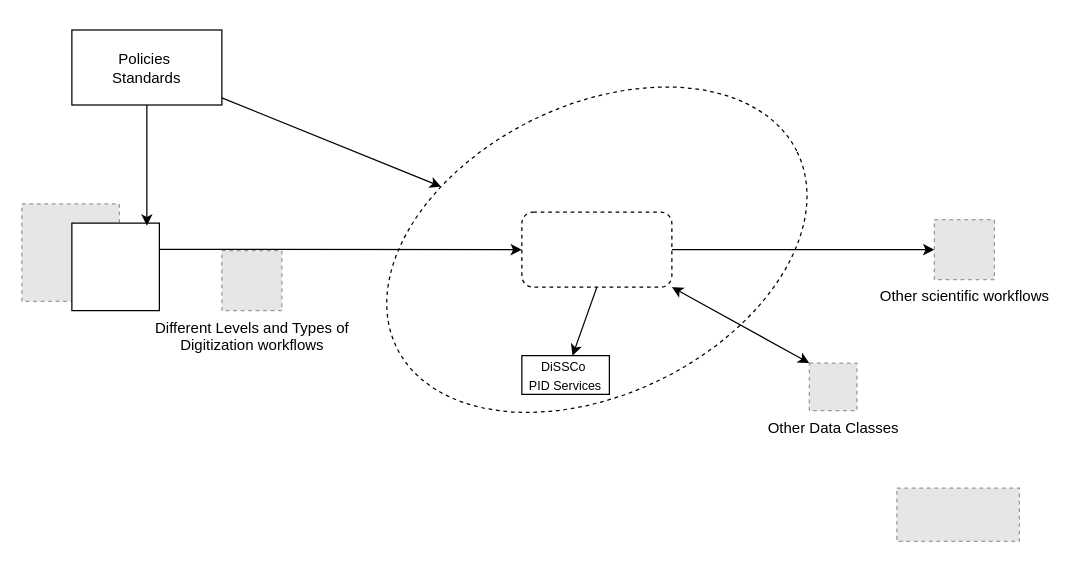
Image size: 1070x564. Some labels were removed from this diagram. Grey dashed boxes stand in for pictures. The box of each missing label's shape, as (x1, y1, x2, y2) in pixels:
Digital Specimen: (521, 211, 672, 287)
Physical Specimen Data: (71, 222, 159, 311)
